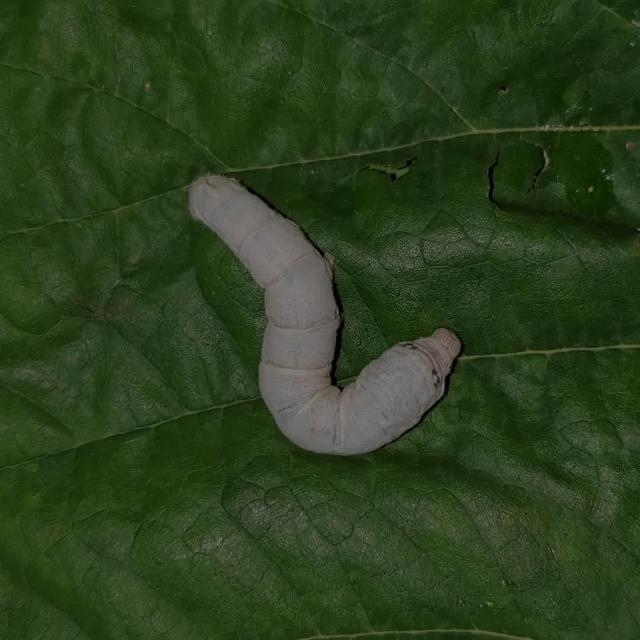Healthy: (168, 147, 483, 480)
